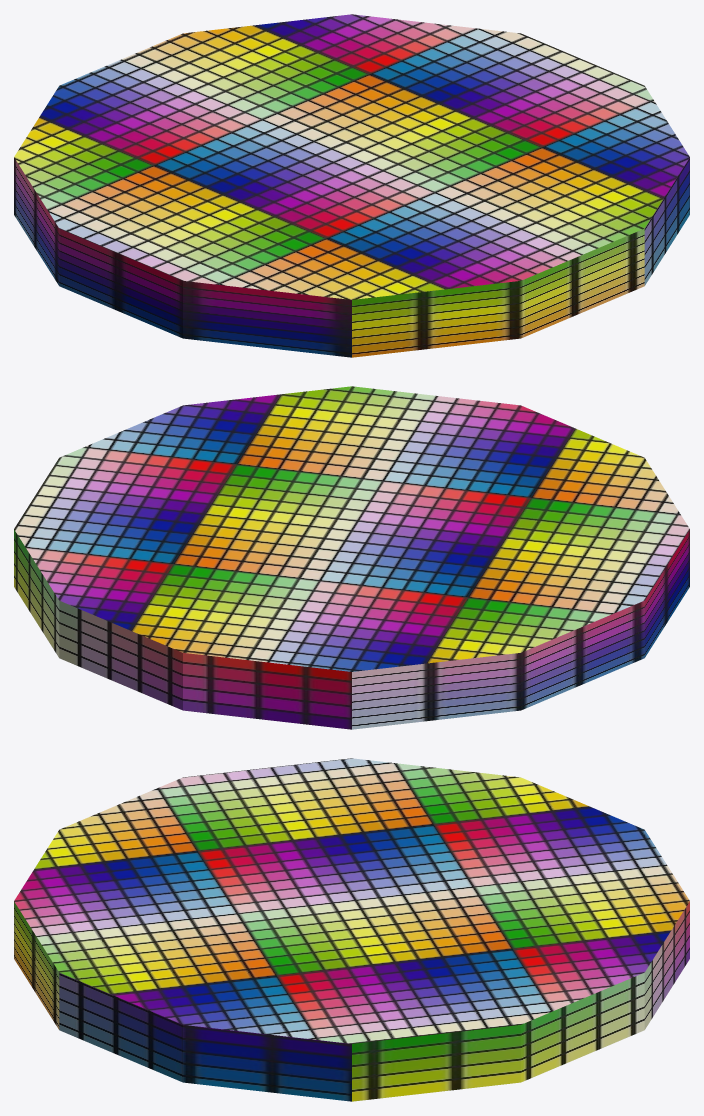
File: start.glb
The picture shows the model from 3 angles, top to bottom: view 1: azimuth 30°, elevation 25°; view 2: azimuth 150°, elevation 25°; view 3: azimuth 270°, elevation 25°; orthographic projection.
Parts seen in each view (by area): view 1: Cylinder; view 2: Cylinder; view 3: Cylinder.
Boxes of the visible parts, box(x1,y1,x2,y2) form: Cylinder: box(14, 14, 689, 357); Cylinder: box(14, 386, 689, 729); Cylinder: box(14, 758, 689, 1101).
Size of the model in its own units: 6.79 by 0.6397 by 6.79.
1 material, 1 textured.
